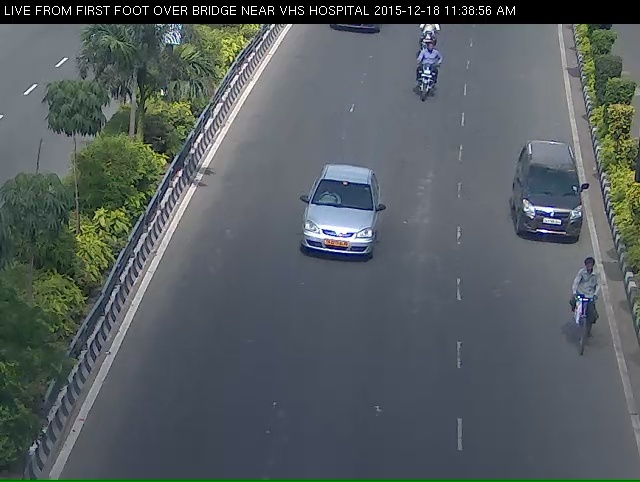Car: (285, 178, 380, 295), (504, 138, 596, 254)
Person: (408, 27, 445, 68), (415, 61, 438, 115)
